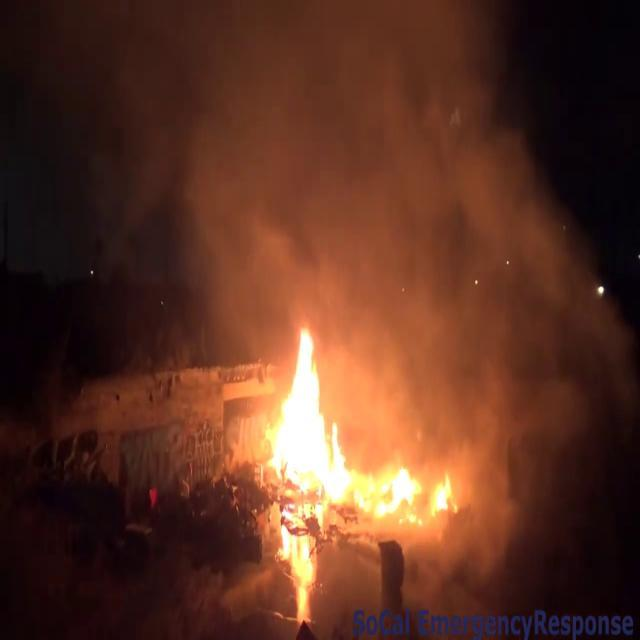Fire: (260, 319, 458, 547)
Smoke: (117, 0, 577, 406)
